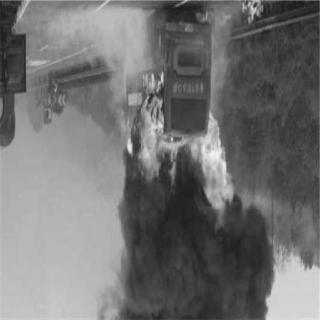Fire: (125, 73, 237, 228), (236, 1, 266, 32)
Smoke: (116, 214, 278, 314)
other: (0, 95, 6, 129)
